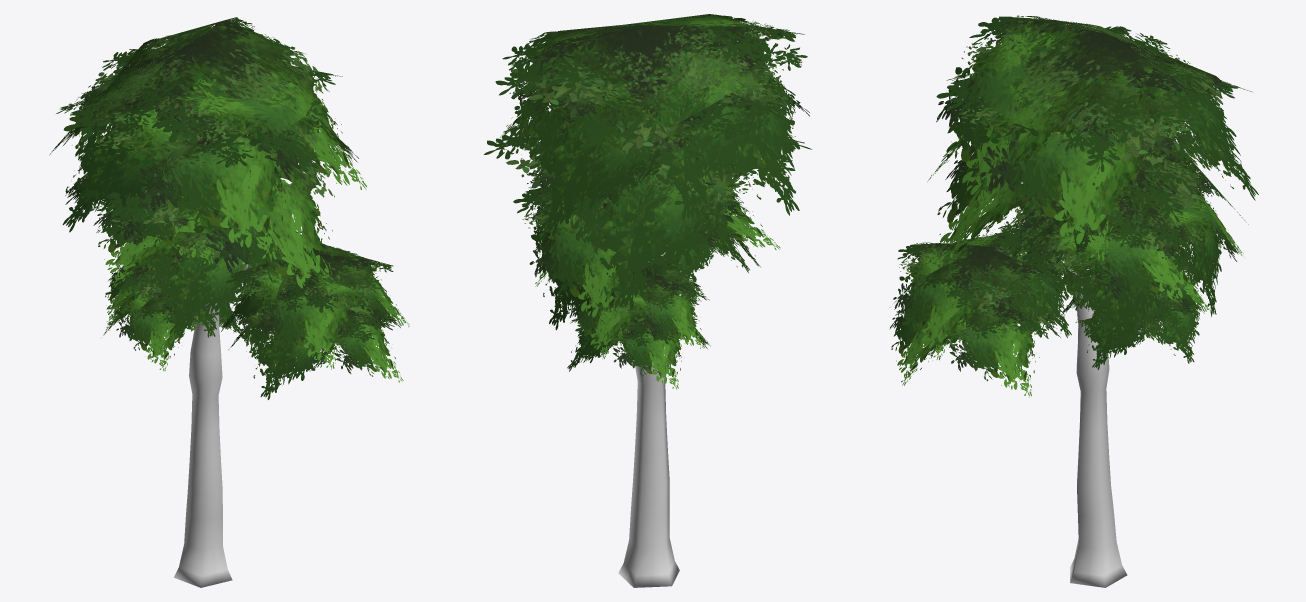
The model's file is OakTree.fbx.
The picture shows the model from 3 angles, left to right: view 1: azimuth 30°, elevation 25°; view 2: azimuth 150°, elevation 25°; view 3: azimuth 270°, elevation 25°; orthographic projection. The views are drawn at different scales.
Visible parts, largest first — view 1: Leaves, TreeBark; view 2: Leaves, TreeBark; view 3: Leaves, TreeBark.
Boxes of the visible parts, x1,y1,x2,y2 form: Leaves: [49, 17, 409, 399]; TreeBark: [174, 264, 248, 587]; Leaves: [484, 14, 811, 389]; TreeBark: [618, 252, 679, 587]; Leaves: [889, 15, 1258, 397]; TreeBark: [1004, 223, 1127, 587].
Bounding box in the file's own units: 85.62 × 132 × 93.01.
